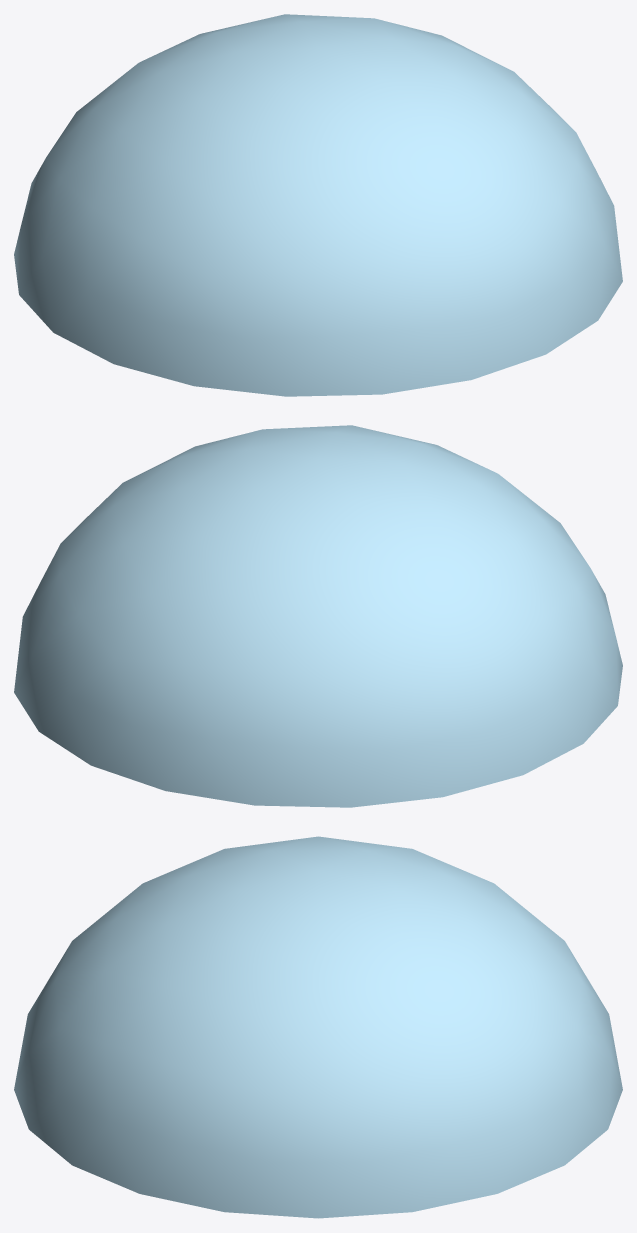
The model's file is sky.fbx.
3 renders of one model, top to bottom at view 1: azimuth 30°, elevation 25°; view 2: azimuth 150°, elevation 25°; view 3: azimuth 270°, elevation 25°, orthographic.
Visible parts, largest first — view 1: Skydome; view 2: Skydome; view 3: Skydome.
Boxes of the visible parts, left/top/right/bottom form: Skydome: left=14, top=14, right=622, bottom=396; Skydome: left=14, top=425, right=622, bottom=807; Skydome: left=14, top=836, right=622, bottom=1218.
Size of the model in its own units: 65.88 by 27.09 by 65.88.
